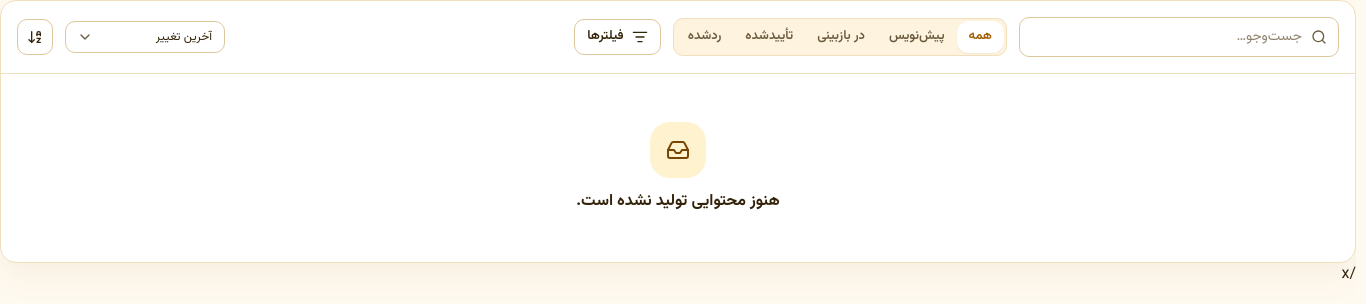
Test: ContentsTable filters › changes the sort and its direction
The width and height of the screenshot is (1366, 304).
Select "تاریخ ساخت" in the dropdown named "مرتب‌سازی" at (145, 37), box 65,21 -> 225,53
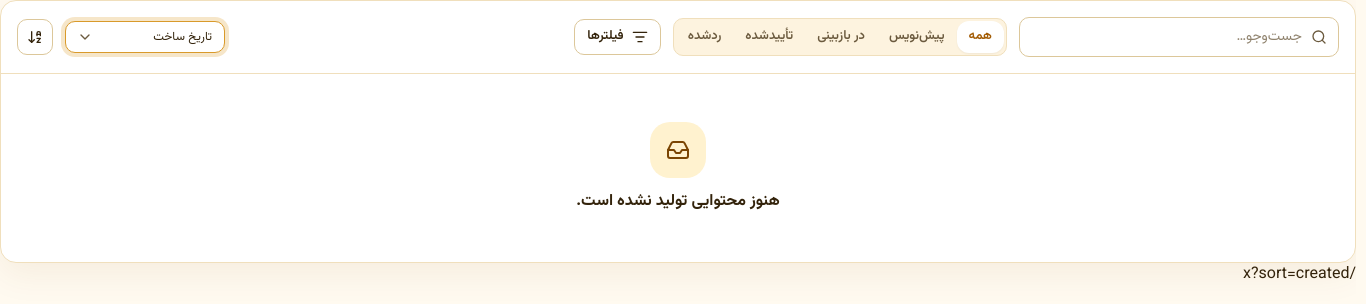
expect the text with test id "where" reads "/x?sort=created": met, box 1243,262 -> 1356,287
Click the button named "نزولی" at (35, 37), box 17,19 -> 53,55
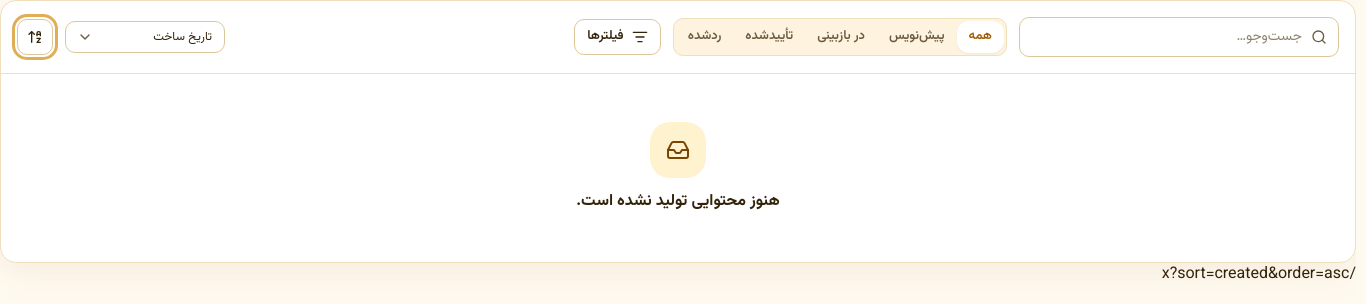
expect the text with test id "where" reads "/x?sort=created&order=asc": met, box 1162,262 -> 1356,287
